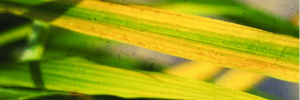RiceTungro: (57, 1, 300, 80)
